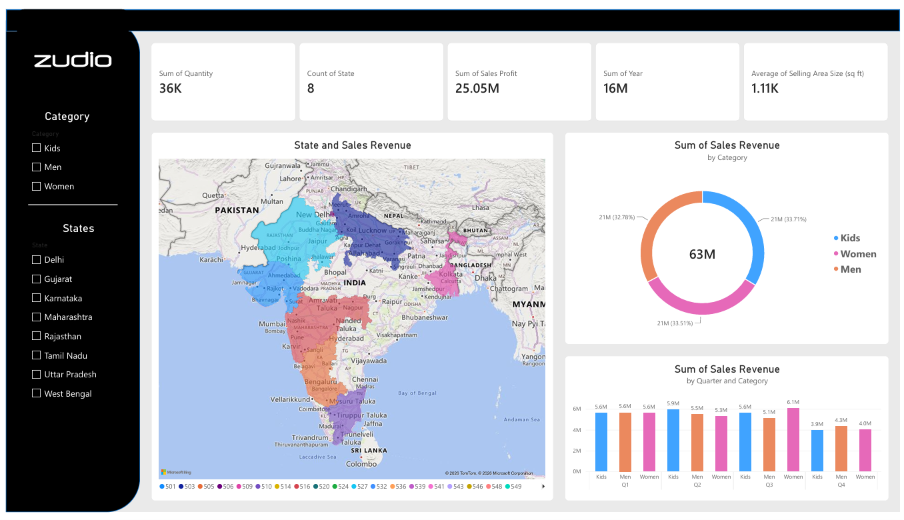

Layout of this report page (visuals, bound fields, positions):
{"tool":"powerbi","page":{"name":"2","canvas":[1920,1080],"ordinal":1},"visuals":[{"type":"shape","box":[0,24,288,1056],"z":0},{"type":"shape","box":[0,0,1920,48],"z":1000},{"type":"image","box":[24,0,240,216],"z":2000},{"type":"cardVisual","fields":{"Data":["Sum(Sales Data.Quantity)","Count(Sales Data.State)","Sum(Sales Data.Sales Profit)","Sum(Sales Data.Year)","Avg(Sales Data.Selling Area Size (sq ft))"]},"box":[312,72,1584,168],"z":3000},{"type":"filledMap","fields":{"Category":["Sales Data.State"],"Series":["Sales Data.Sales Revenue"]},"box":[312,264,864,792],"z":4000},{"type":"donutChart","fields":{"Category":["Sales Data.Category"],"Y":["Sum(Sales Data.Sales Revenue)"]},"box":[1200,264,696,456],"z":5000},{"type":"slicer","title":"Category","fields":{"Values":["Sales Data.Category"]},"box":[48,216,168,192],"z":6000},{"type":"slicer","title":"States","fields":{"Values":["Sales Data.State"]},"box":[48,456,216,408],"z":7000},{"type":"clusteredColumnChart","fields":{"Category":["Sales Data.Quarter","Sales Data.Category"],"Y":["Sum(Sales Data.Sales Revenue)"]},"box":[1200,744,696,312],"z":8000},{"type":"shape","box":[48,384,192,72],"z":9000}]}

Visuals, with their boxes in screenshot pixels (x1, y1, x2, y2), scaled from the page's 1920x1080 canvas onto the 904x520 screenshot:
shape: (0, 12, 136, 519)
shape: (0, 0, 903, 23)
image: (11, 0, 124, 104)
cardVisual - Sum(Sales Data.Quantity) x Count(Sales Data.State): (147, 35, 893, 116)
filledMap - Sales Data.State x Sales Data.Sales Revenue: (147, 127, 554, 508)
donutChart - Sales Data.Category x Sum(Sales Data.Sales Revenue): (565, 127, 893, 347)
"Category" slicer: (23, 104, 102, 196)
"States" slicer: (23, 220, 124, 416)
clusteredColumnChart - Sales Data.Quarter x Sales Data.Category: (565, 358, 893, 508)
shape: (23, 185, 113, 220)
